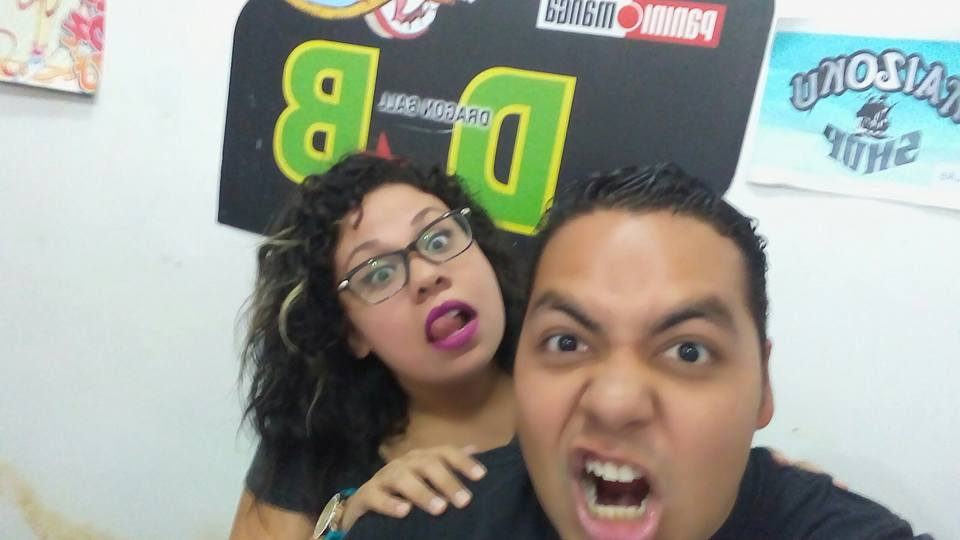Yoshi: (501, 130, 794, 540)
